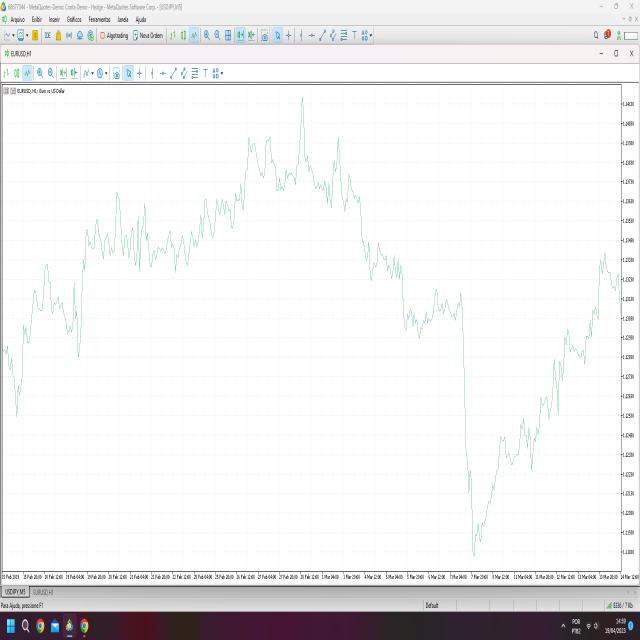bandeira_baixa: (398, 246, 434, 344)
oco: (18, 256, 72, 324)
